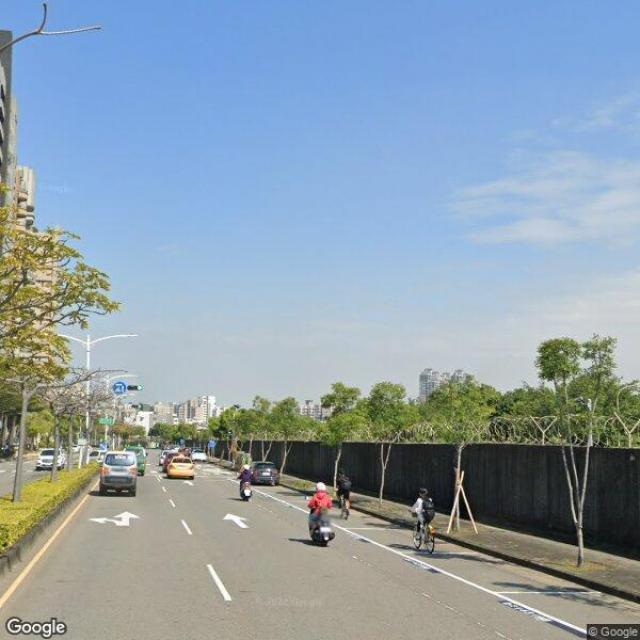Legalparking: (252, 462, 279, 484)
